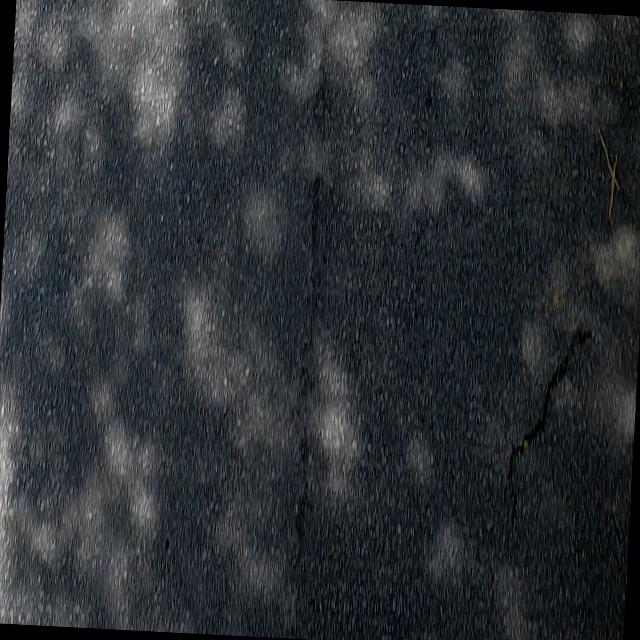Retak-Memanjang: (504, 327, 590, 521)
